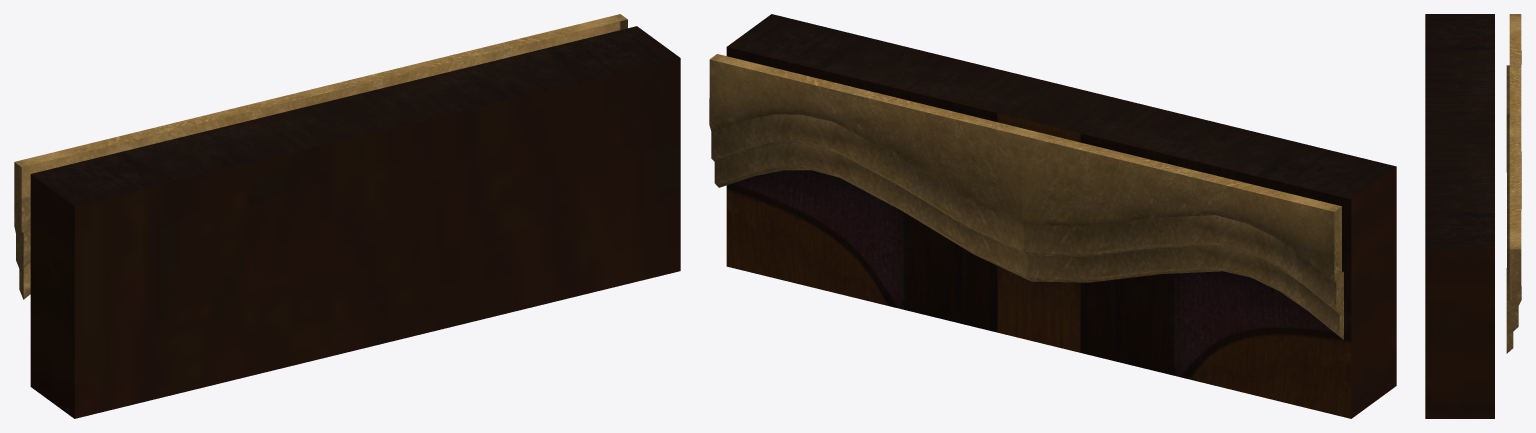
The model's file is RestaurantWallDoorUp.fbx.
3 views of the same model, side by side, from view 1: azimuth 30°, elevation 25°; view 2: azimuth 150°, elevation 25°; view 3: azimuth 270°, elevation 25° (orthographic). The views are drawn at different scales.
Parts seen in each view (by area): view 1: EDU_Restaurant_barTop257:EDU_Restaurant_barTop257; view 2: EDU_Restaurant_barTop257:EDU_Restaurant_barTop257; view 3: EDU_Restaurant_barTop257:EDU_Restaurant_barTop257.
Part boxes in pixels (x1,y1,x2,y2): EDU_Restaurant_barTop257:EDU_Restaurant_barTop257: (14,14,680,418); EDU_Restaurant_barTop257:EDU_Restaurant_barTop257: (709,14,1396,418); EDU_Restaurant_barTop257:EDU_Restaurant_barTop257: (1425,14,1521,418).
Size of the model in its own units: 27.61 by 9.27 by 4.76.
Materials: 2 (1 with a texture image).
